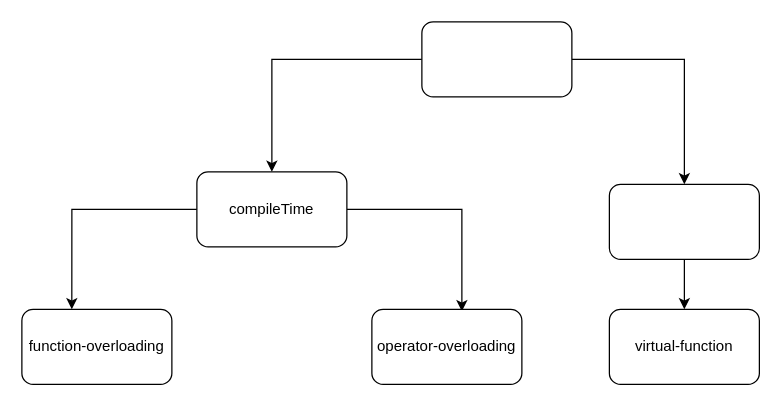
Some shapes in this 781 by 406 pixel diagram are drawn without their labels. The shapes that lost their labels are listed below. From the top down, each one's centre as x and y in pixels, then its label:
[496,59]: Polymorphism
[683,221]: RunTime
